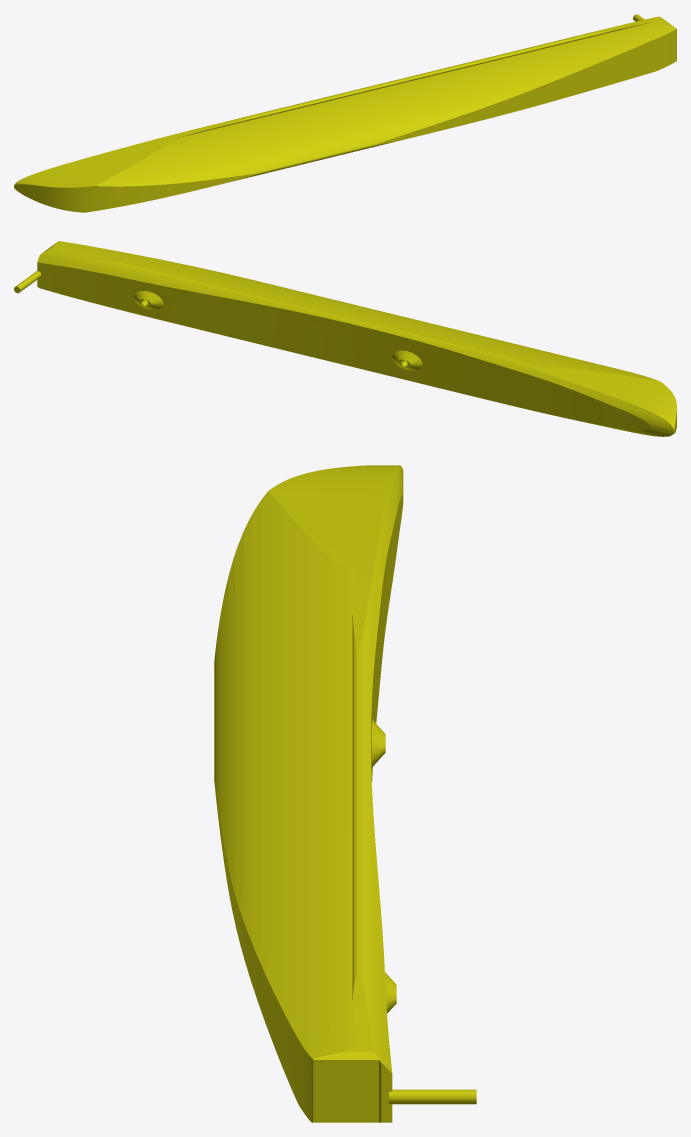
The model's file is starboard.dae.
The picture shows the model from 3 angles, top to bottom: view 1: azimuth 30°, elevation 25°; view 2: azimuth 150°, elevation 25°; view 3: azimuth 270°, elevation 25°; orthographic projection. The views are drawn at different scales.
Visible parts, largest first — view 1: starboard_hull_v6; view 2: starboard_hull_v6; view 3: starboard_hull_v6.
Part boxes in pixels (x1,y1,x2,y2): starboard_hull_v6: (14, 14, 676, 212); starboard_hull_v6: (14, 241, 676, 436); starboard_hull_v6: (214, 465, 476, 1122).
Size of the model in its own units: 5.09 by 0.8994 by 0.3591.
1 material, 1 textured.
